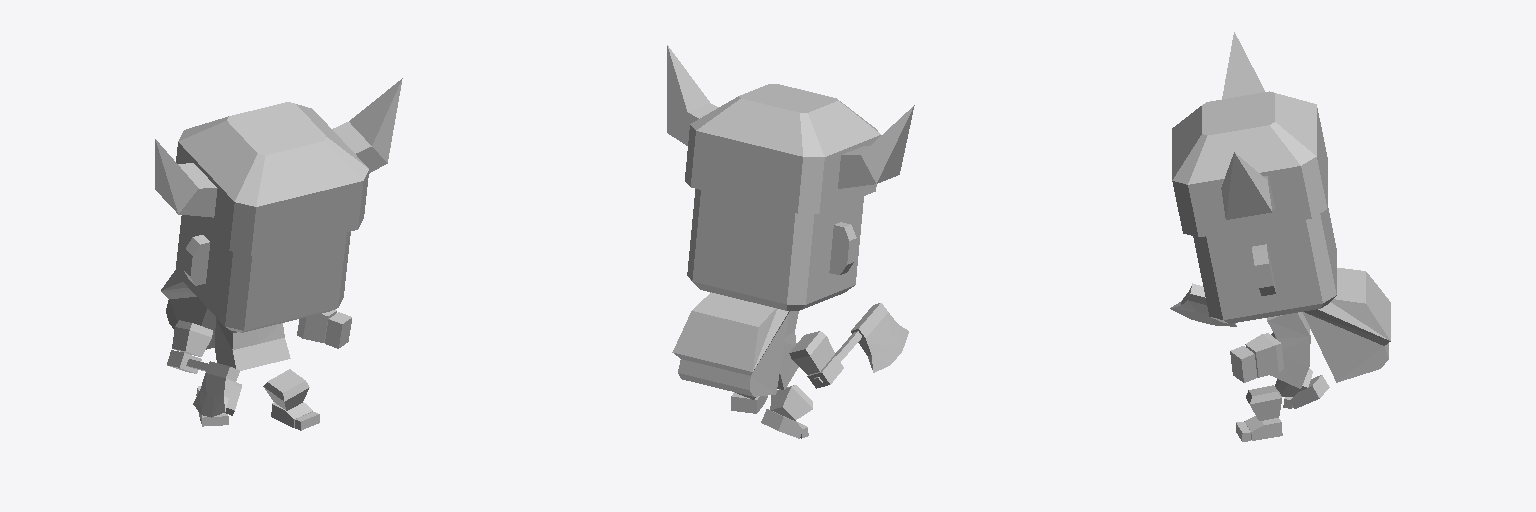
File: mini_knight_000017.obj
3 views of the same model, side by side, from view 1: azimuth 30°, elevation 25°; view 2: azimuth 150°, elevation 25°; view 3: azimuth 270°, elevation 25° (orthographic).
Visible parts, largest first — view 1: cap_Object01_Material__3, Mesh_objheadusOBJexport_Material, axe_Object02_Material__3, back_Object03_Material__3; view 2: cap_Object01_Material__3, Mesh_objheadusOBJexport_Material, back_Object03_Material__3, axe_Object02_Material__3; view 3: cap_Object01_Material__3, Mesh_objheadusOBJexport_Material, back_Object03_Material__3, axe_Object02_Material__3.
Part boxes in pixels (x1,y1,x2,y2): cap_Object01_Material__3: (155, 78, 402, 255); Mesh_objheadusOBJexport_Material: (167, 215, 351, 430); axe_Object02_Material__3: (186, 359, 239, 417); back_Object03_Material__3: (161, 271, 215, 349); cap_Object01_Material__3: (667, 45, 914, 213); Mesh_objheadusOBJexport_Material: (687, 189, 863, 438); back_Object03_Material__3: (672, 292, 789, 396); axe_Object02_Material__3: (813, 303, 908, 384); cap_Object01_Material__3: (1172, 32, 1327, 237); Mesh_objheadusOBJexport_Material: (1193, 208, 1336, 441); back_Object03_Material__3: (1303, 268, 1390, 382); axe_Object02_Material__3: (1170, 283, 1236, 326).
Bounding box in the file's own units: 1.94 × 2.46 × 1.5.